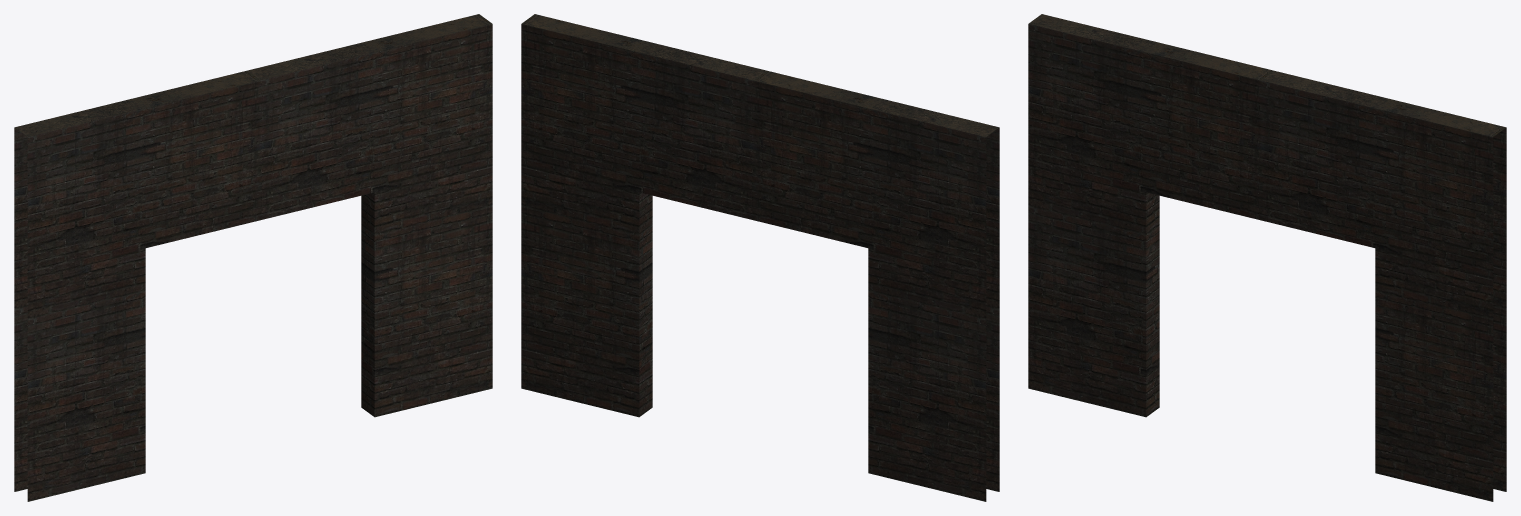
Rendered from garage_door_frame_hs_1.dae.
3 renders of one model, left to right at view 1: azimuth 30°, elevation 25°; view 2: azimuth 150°, elevation 25°; view 3: azimuth 330°, elevation 25°, orthographic.
Visible parts, largest first — view 1: garage_door_frame_hs_1; view 2: garage_door_frame_hs_1; view 3: garage_door_frame_hs_1.
Part boxes in pixels (left/top/right/bottom): garage_door_frame_hs_1: left=14, top=14, right=492, bottom=501; garage_door_frame_hs_1: left=521, top=14, right=999, bottom=501; garage_door_frame_hs_1: left=1028, top=14, right=1506, bottom=501.
Size of the model in its own units: 8 by 0.4 by 6.
2 materials, 2 textured.
